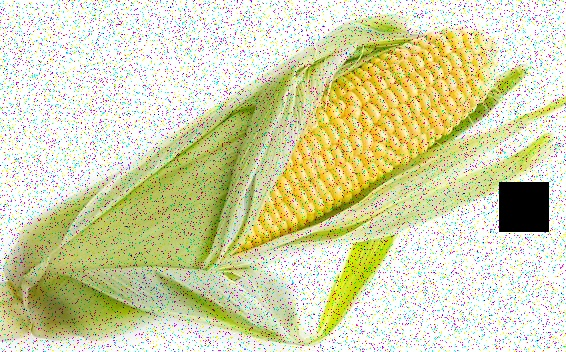corn: (212, 31, 495, 259)
